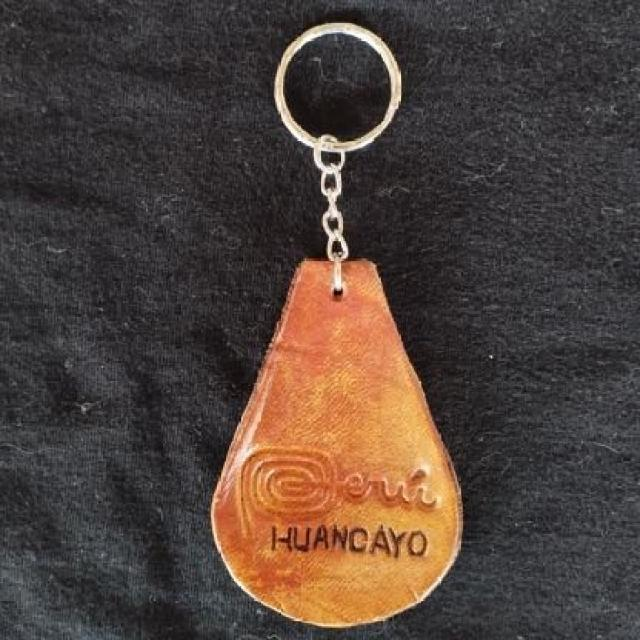Llavero: (208, 254, 466, 628)
